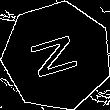N_E: (27, 29, 87, 83)
